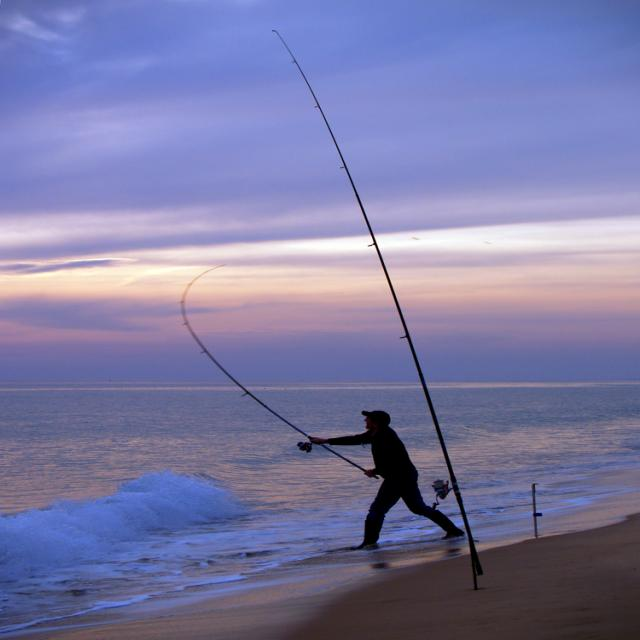Person: (310, 411, 465, 548)
